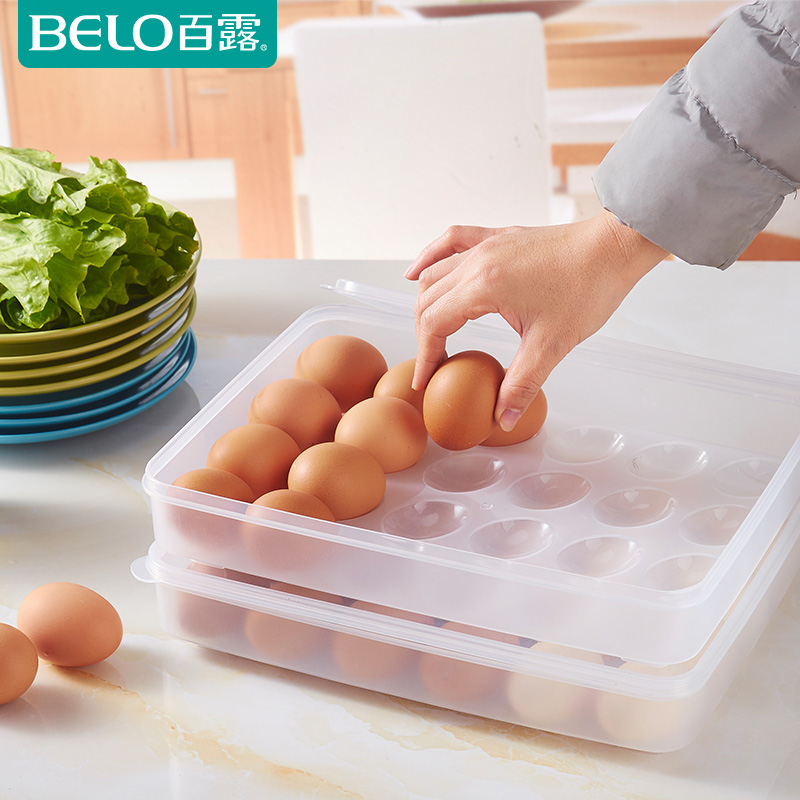egg: (167, 334, 557, 564), (3, 583, 127, 709)
